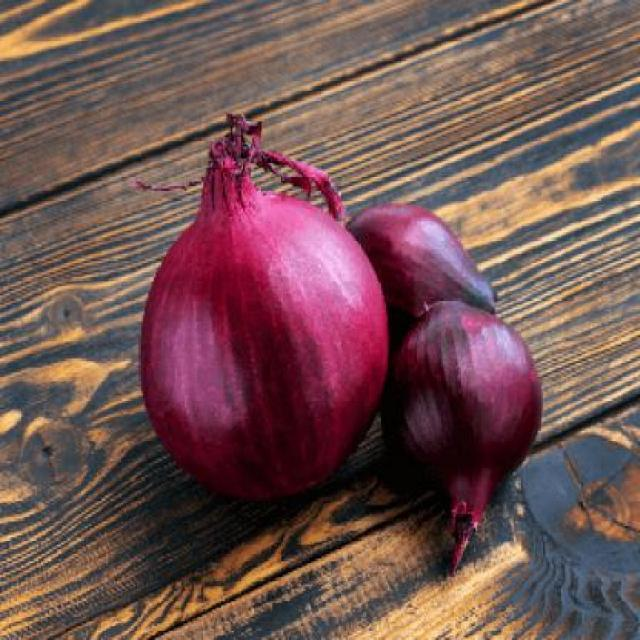Onion: (141, 114, 389, 501), (385, 301, 543, 572), (349, 204, 496, 318)
